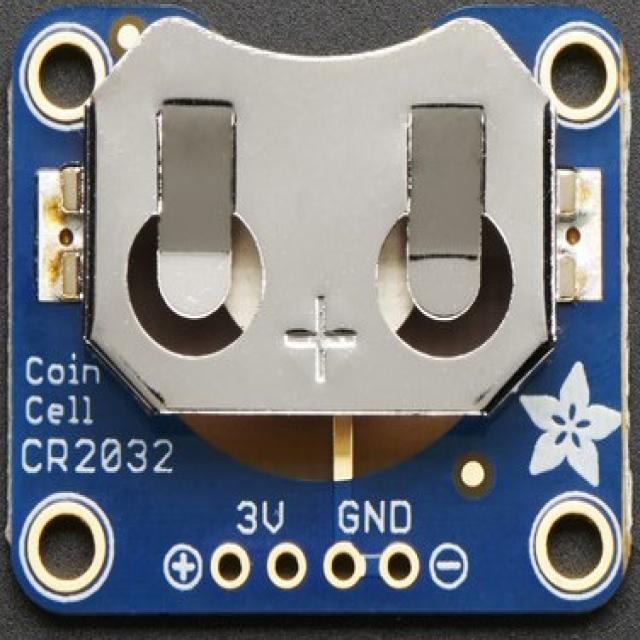battery: (76, 0, 572, 451)
